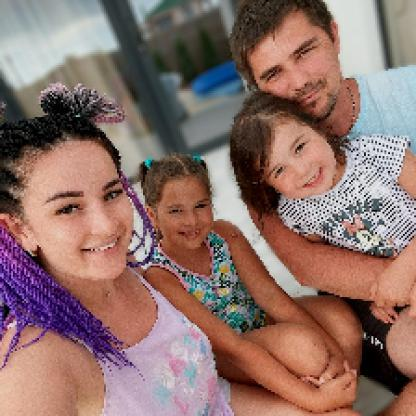child: (137, 157, 365, 389), (229, 92, 416, 259)
